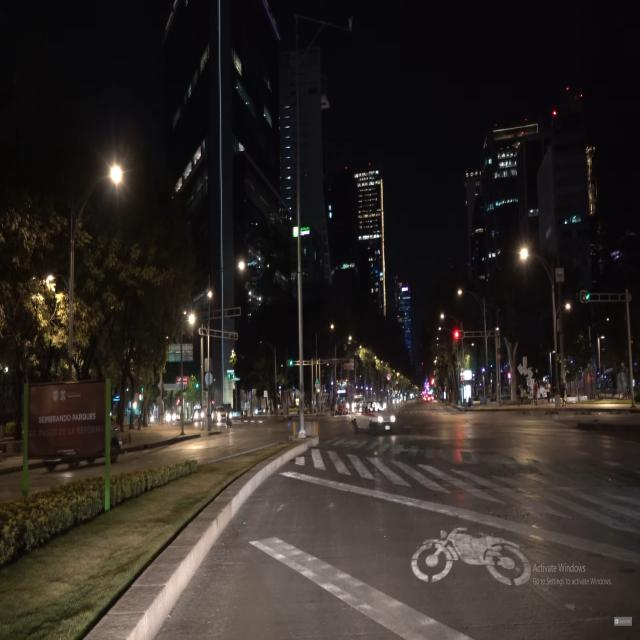headlights: (376, 412, 398, 432)
